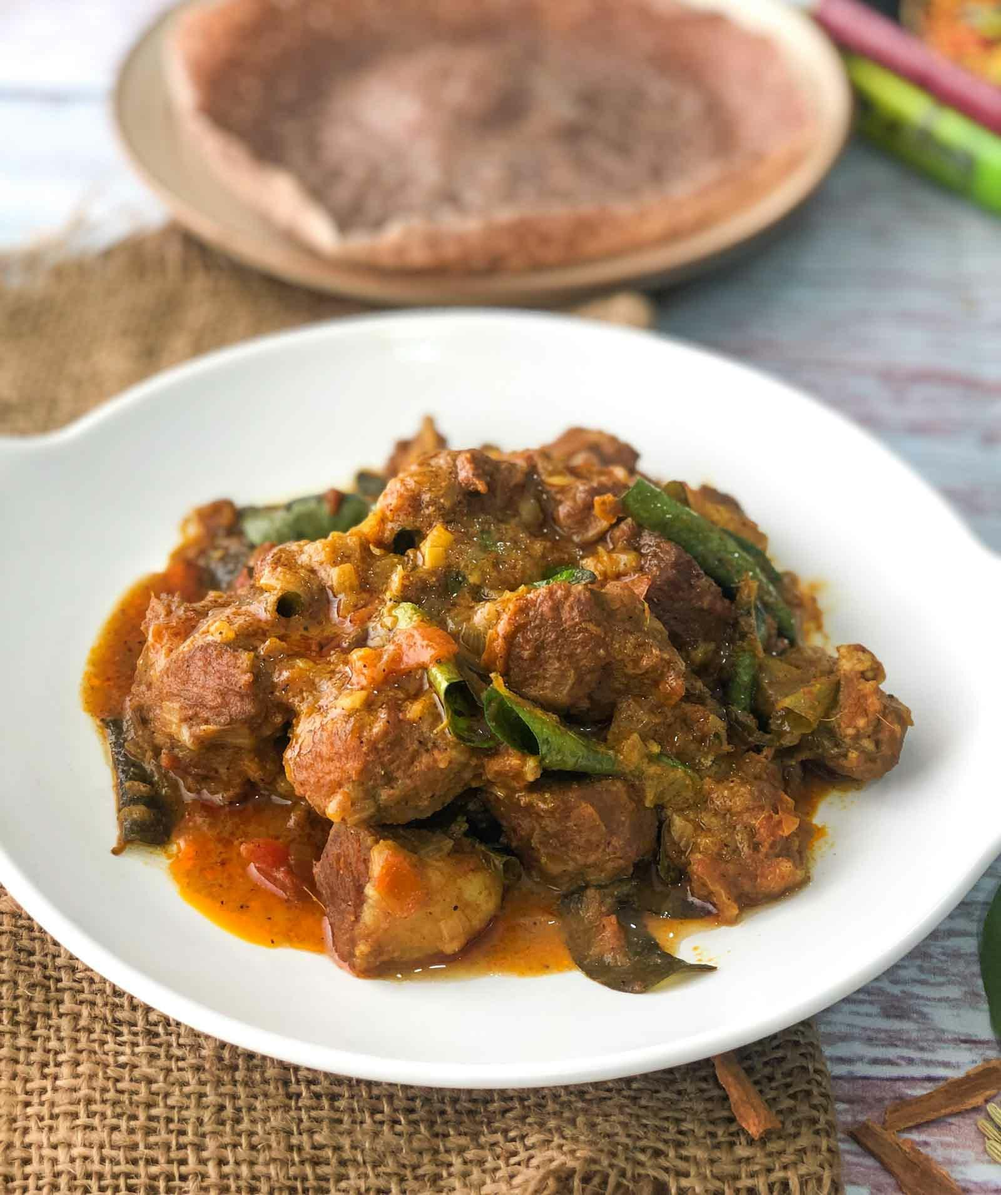MuttonCurry: (90, 410, 919, 984)
